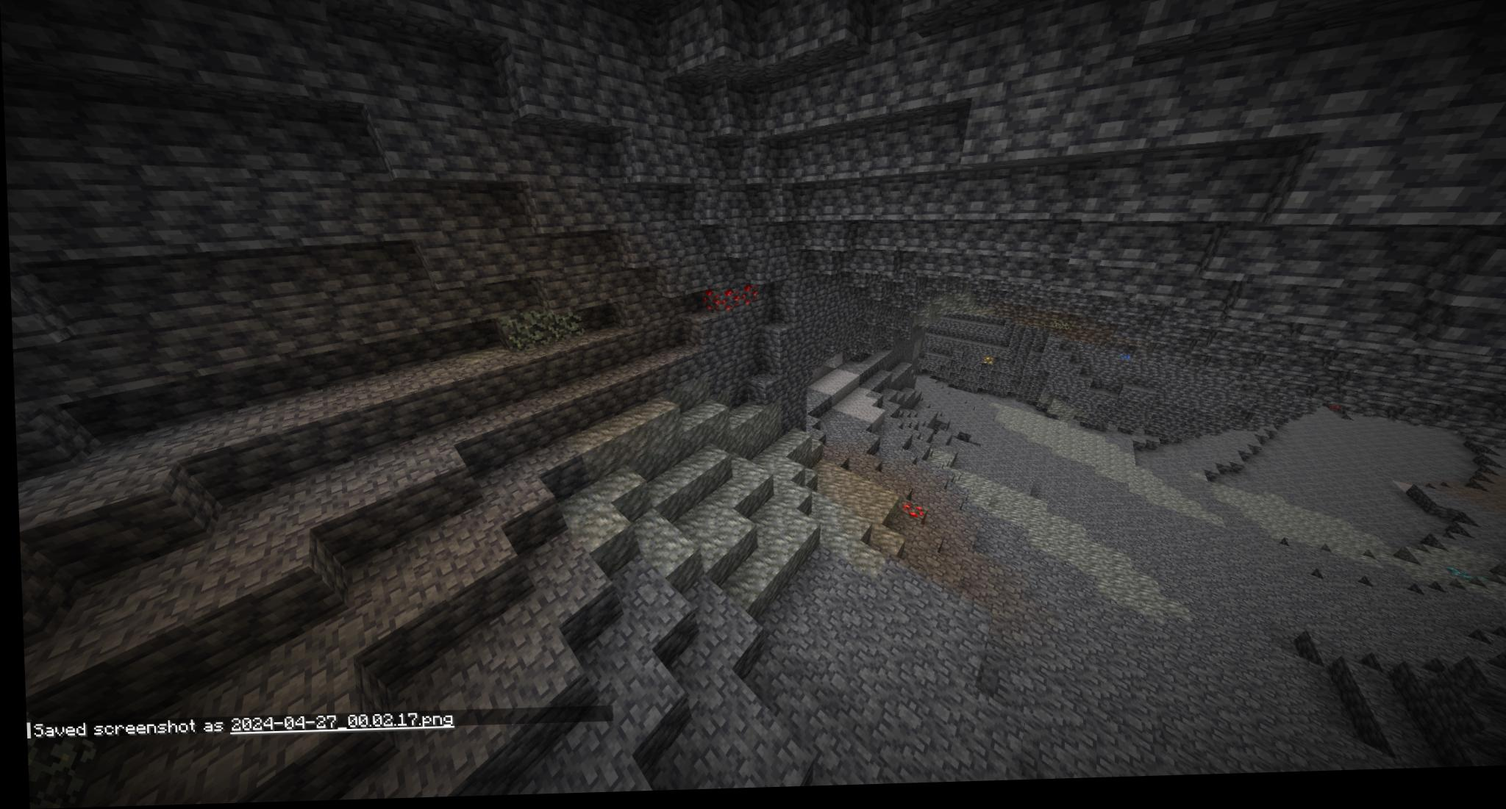diamond ore: (1441, 569, 1477, 600)
redstone ore: (701, 291, 737, 318), (898, 502, 922, 531), (737, 285, 758, 314)
